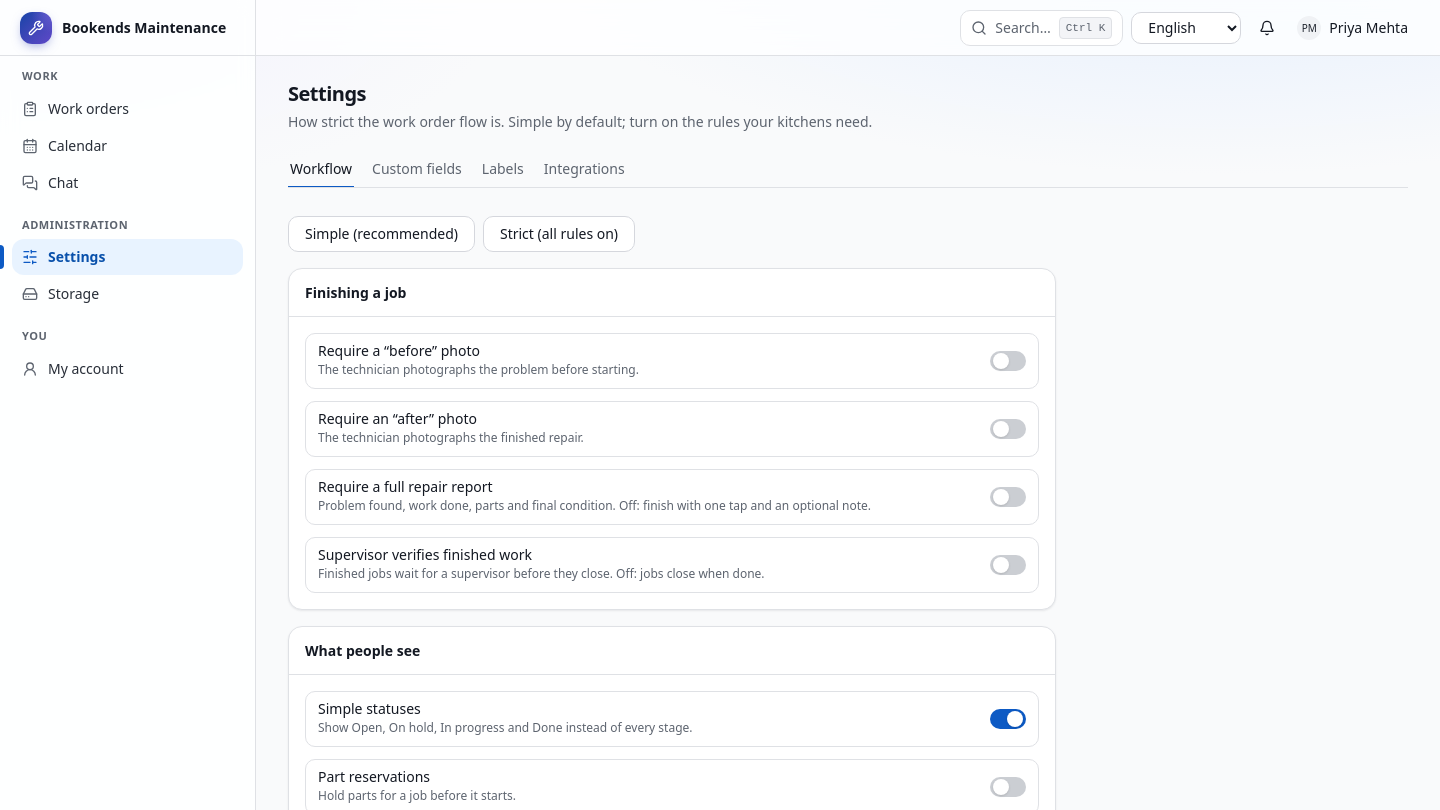
Test: workflow settings page › turns on the strict rules and hides stock counts while they are off
Expected: the switch named "Require a full repair report" in the row of "Require a full repair report" is not checked, [990,487,1026,507]
Expected: the link "Stock counts" is not shown
Click the button "Strict (all rules on)": click(559, 234) [483,216,635,252]
(page scrolled)
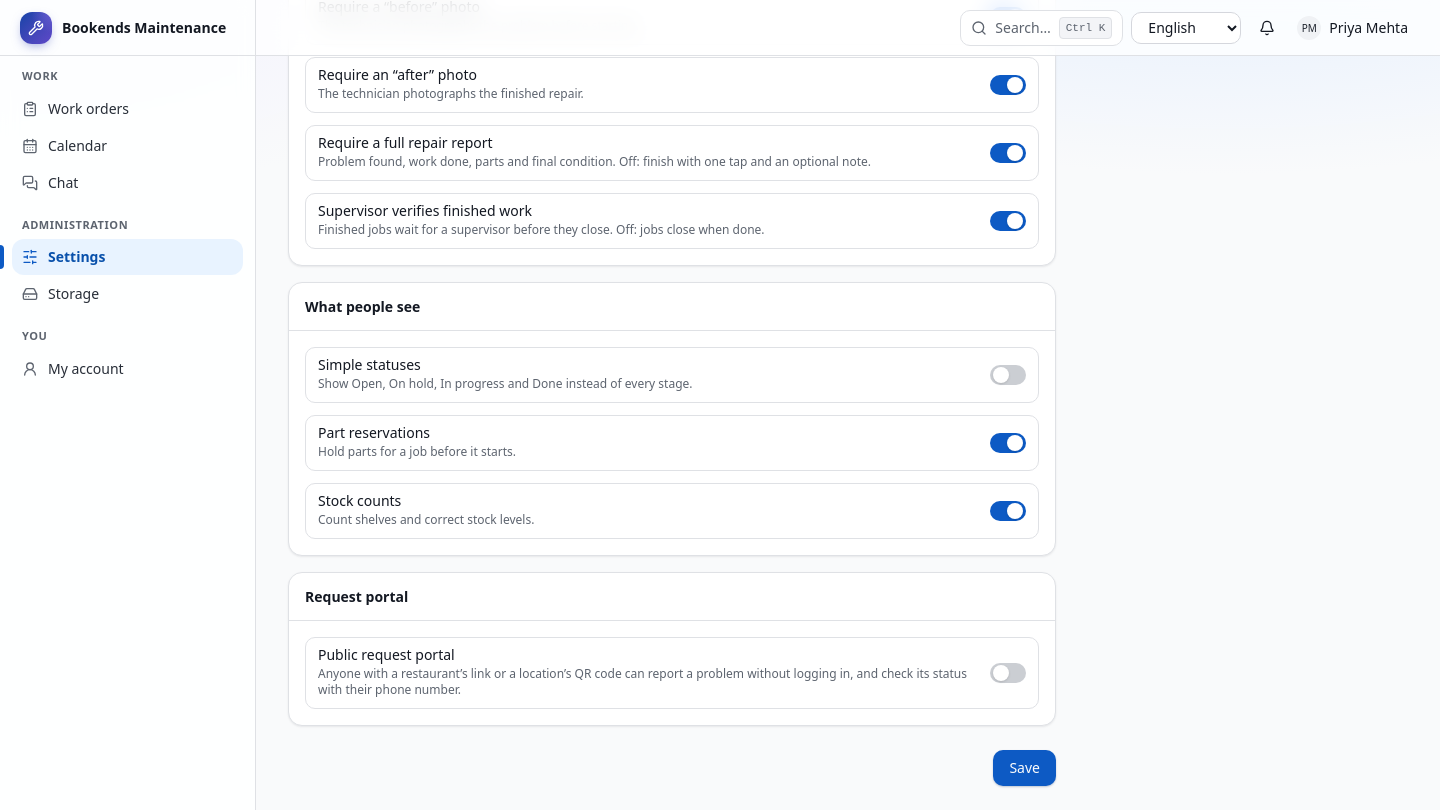
Expected: the switch named "Require a full repair report" in the row of "Require a full repair report" is checked, [990,143,1026,163]
Click the button "Save": click(1025, 768) [993,750,1056,786]
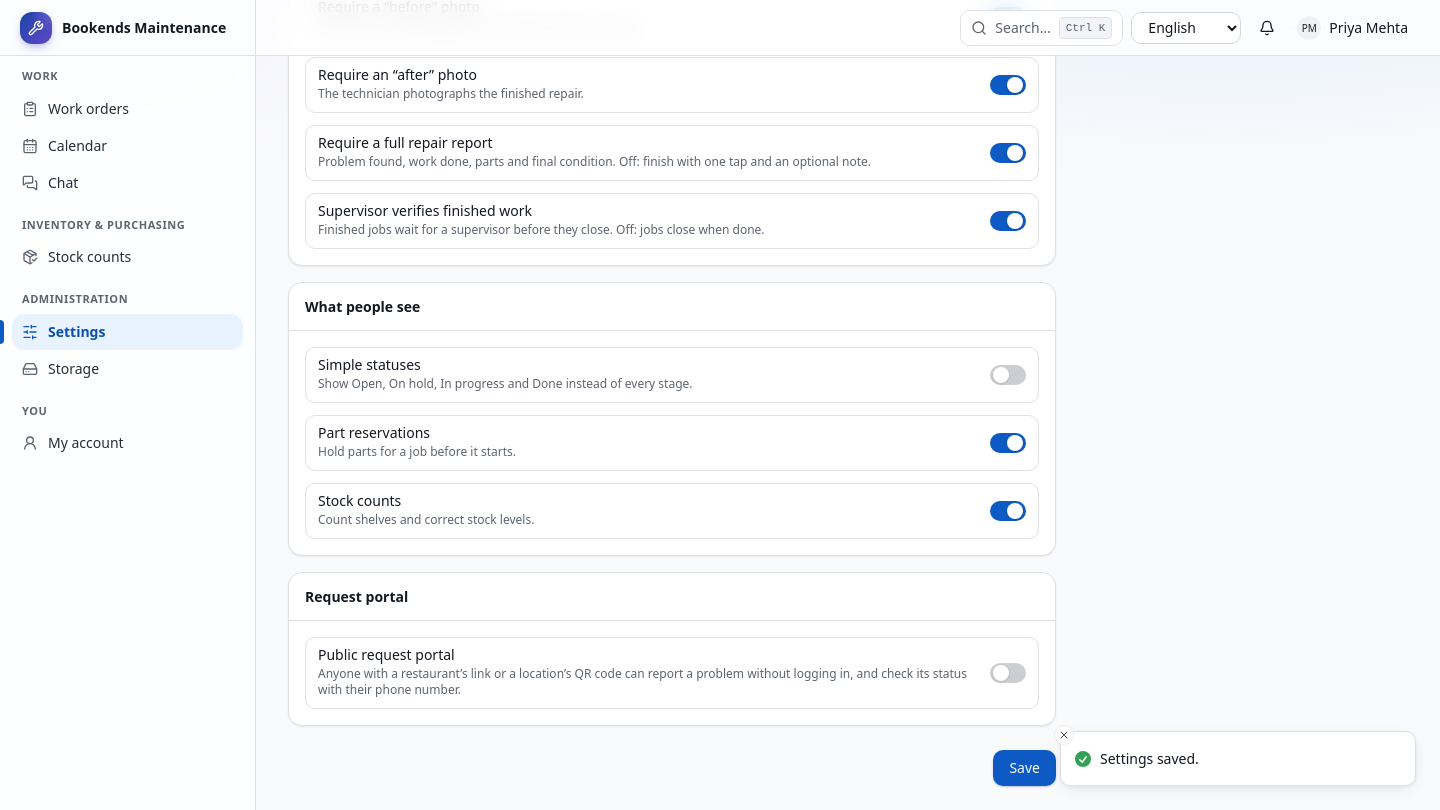
Expected: the link "Stock counts" is shown, [22,247,131,266]
